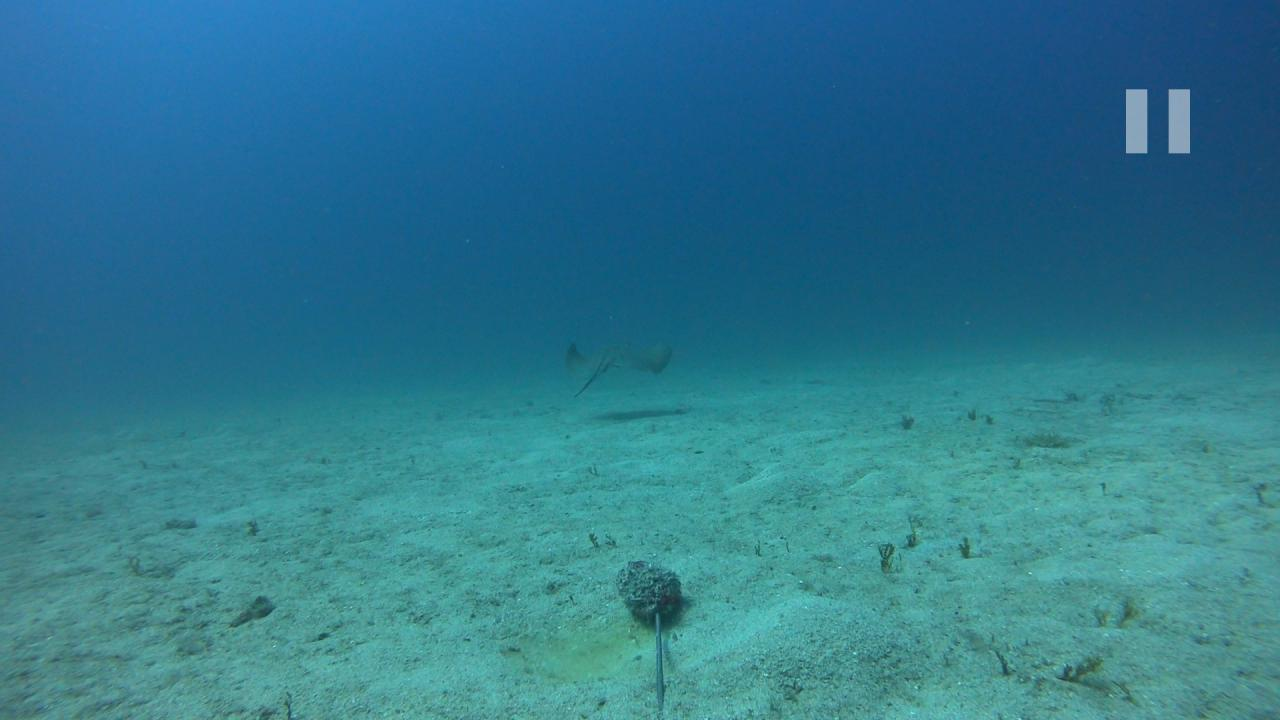dasyatis: (562, 338, 672, 399)
